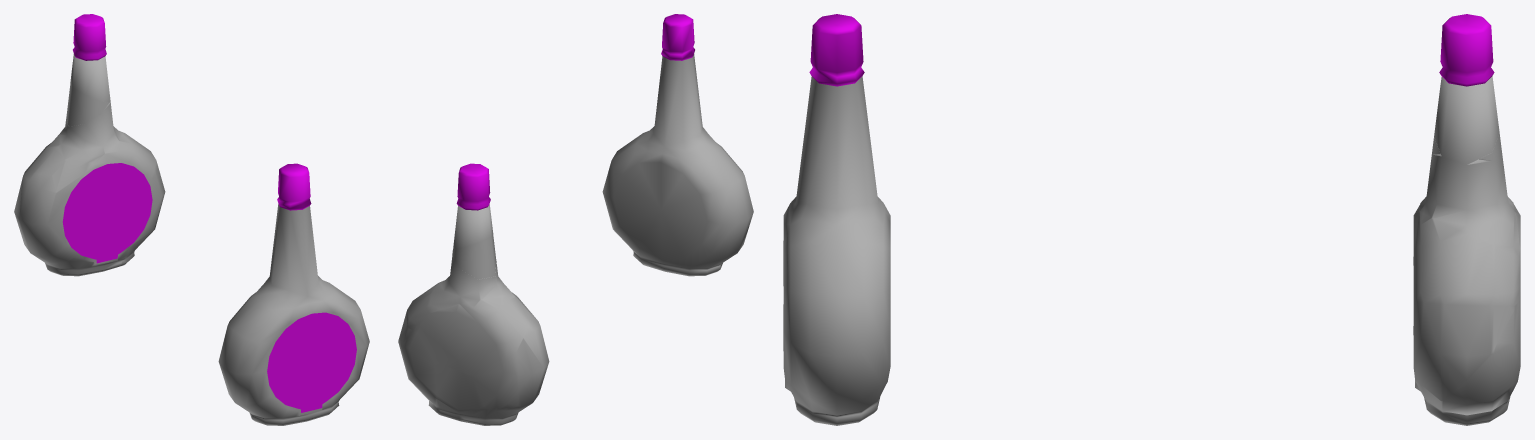
Rendered from Breakable Liqueur MDL.fbx.
3 renders of one model, left to right at view 1: azimuth 30°, elevation 25°; view 2: azimuth 150°, elevation 25°; view 3: azimuth 270°, elevation 25°, orthographic. The views are drawn at different scales.
Visible parts, largest first — view 1: liqueurBottle, liqueurFragments9, liqueurFragments10, liqueurFragments8, liqueurFragments3, liqueurFragments11, liqueurFragments12, liqueurFragments7, liqueurFragments2, liqueurFragments6; view 2: liqueurBottle, liqueurFragments6, liqueurFragments8, liqueurFragments3, liqueurFragments10, liqueurFragments5, liqueurFragments1, liqueurFragments4, liqueurFragments7, liqueurFragments2, liqueurFragments11; view 3: liqueurBottle, liqueurFragments8, liqueurFragments11, liqueurFragments12, liqueurFragments3, liqueurFragments4.
Part boxes in pixels (x1,y1,x2,y2): liqueurBottle: (218,163,369,425); liqueurFragments9: (52,161,132,265); liqueurFragments10: (14,173,73,263); liqueurFragments8: (70,14,110,102); liqueurFragments3: (58,102,122,162); liqueurFragments11: (92,132,157,193); liqueurFragments12: (130,165,165,251); liqueurFragments7: (66,83,108,126); liqueurFragments2: (40,258,121,276); liqueurFragments6: (23,134,65,175); liqueurBottle: (602,14,753,276); liqueurFragments6: (417,296,529,376); liqueurFragments8: (453,163,493,250); liqueurFragments3: (426,256,515,313); liqueurFragments10: (516,313,549,410); liqueurFragments5: (435,362,486,421); liqueurFragments1: (472,353,518,410); liqueurFragments4: (398,329,441,415); liqueurFragments7: (452,234,496,279); liqueurFragments2: (461,408,523,425); liqueurFragments11: (405,282,439,331); liqueurBottle: (783,14,890,425); liqueurFragments8: (1434,14,1499,164); liqueurFragments11: (1413,210,1520,306); liqueurFragments12: (1413,301,1515,401); liqueurFragments3: (1418,154,1519,256); liqueurFragments4: (1423,300,1520,425).
Size of the model in its own units: 2.07 by 3.41 by 6.09.
